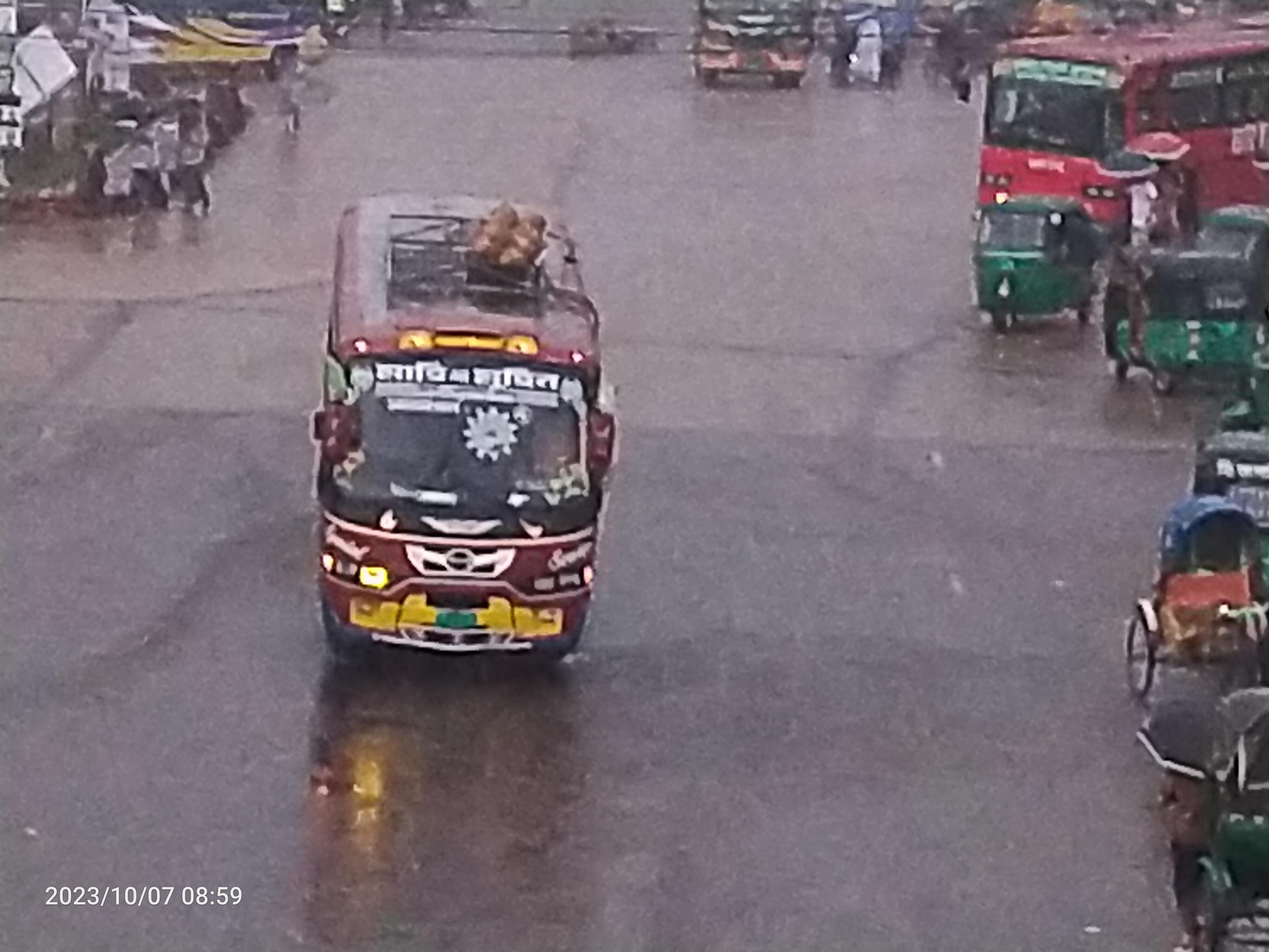Bus: (263, 148, 666, 727), (946, 3, 1269, 260), (44, 0, 335, 136), (633, 0, 837, 140)
Car: (1133, 658, 1269, 950), (1118, 456, 1258, 731)
